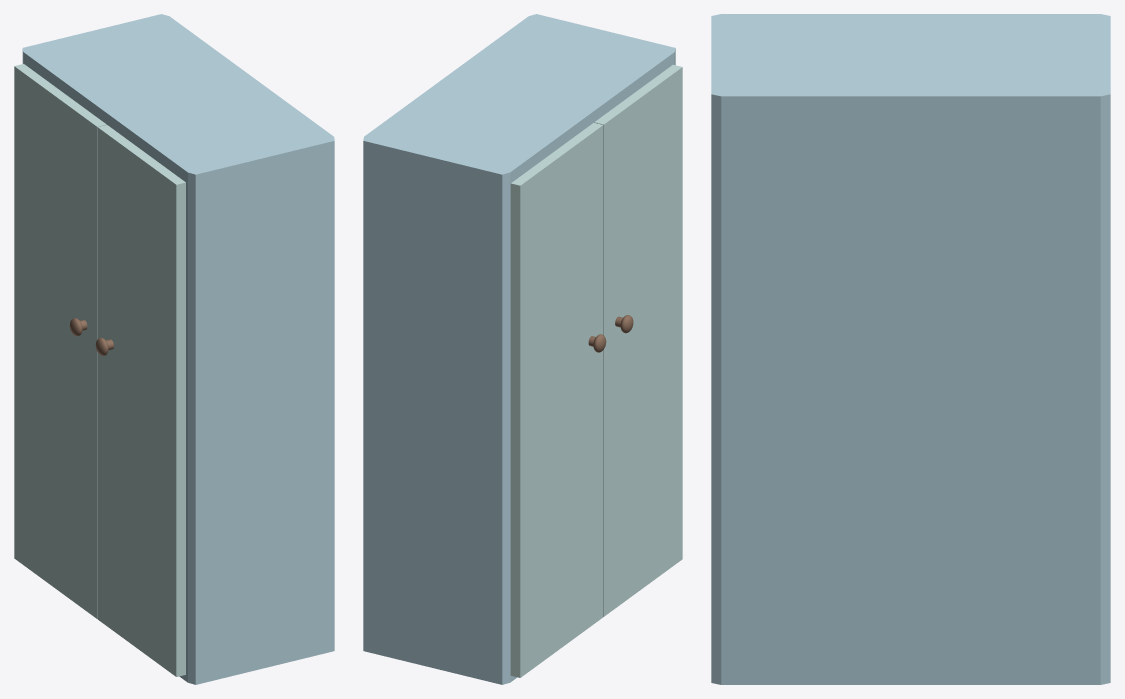
File: big_shelf.fbx
The picture shows the model from 3 angles, left to right: view 1: azimuth 30°, elevation 25°; view 2: azimuth 150°, elevation 25°; view 3: azimuth 270°, elevation 25°; orthographic projection. The views are drawn at different scales.
Visible parts, largest first — view 1: Cube.148, Cube.150, Cube.149; view 2: Cube.148, Cube.149, Cube.150; view 3: Cube.148.
Boxes of the visible parts, x1,y1,x2,y2 form: Cube.148: [22, 14, 334, 684]; Cube.150: [97, 125, 185, 676]; Cube.149: [14, 64, 106, 618]; Cube.148: [363, 14, 675, 684]; Cube.149: [510, 123, 603, 677]; Cube.150: [594, 64, 682, 616]; Cube.148: [711, 14, 1110, 684].
Bounding box in the file's own units: 102 × 294 × 181.
